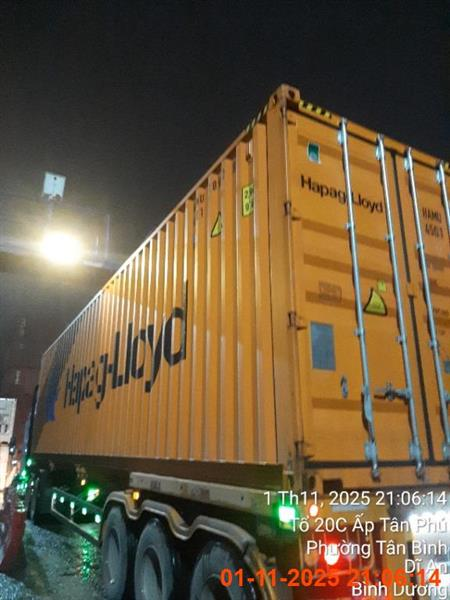broken: (6, 86, 449, 599)
